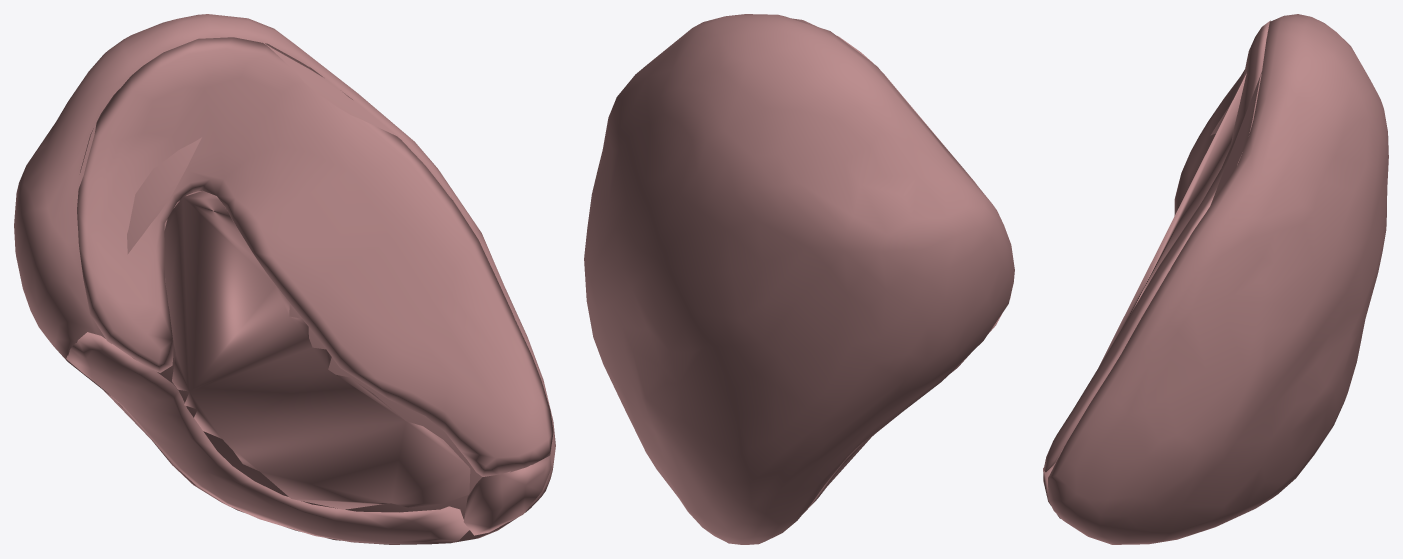
File: 3d-vh-f-spleen_lod_20.glb
3 renders of one model, left to right at view 1: azimuth 30°, elevation 25°; view 2: azimuth 150°, elevation 25°; view 3: azimuth 270°, elevation 25°, orthographic. The views are drawn at different scales.
Parts seen in each view (by area): view 1: VH_F_gastric_surface_of_spleen, VH_F_hilum_of_spleen, VH_F_diaphragmatic_surface_of_spleen, VH_F_renal_surface_of_spleen, VH_F_colic_surface_of_spleen; view 2: VH_F_diaphragmatic_surface_of_spleen; view 3: VH_F_diaphragmatic_surface_of_spleen, VH_F_gastric_surface_of_spleen.
Part boxes in pixels (x1,y1,x2,y2): VH_F_gastric_surface_of_spleen: (77,37,553,476); VH_F_hilum_of_spleen: (164,191,470,509); VH_F_diaphragmatic_surface_of_spleen: (14,14,555,544); VH_F_renal_surface_of_spleen: (66,332,469,544); VH_F_colic_surface_of_spleen: (463,455,551,535); VH_F_diaphragmatic_surface_of_spleen: (584,14,1014,544); VH_F_diaphragmatic_surface_of_spleen: (1048,14,1388,544); VH_F_gastric_surface_of_spleen: (1043,20,1270,472).
Bounding box in the file's own units: 0.0896 × 0.1023 × 0.071.
